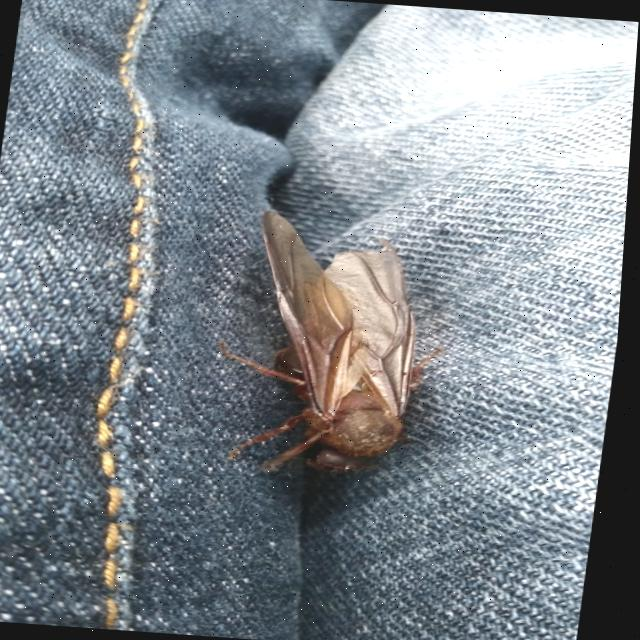Alive-Female-Alate: (206, 207, 465, 484)
